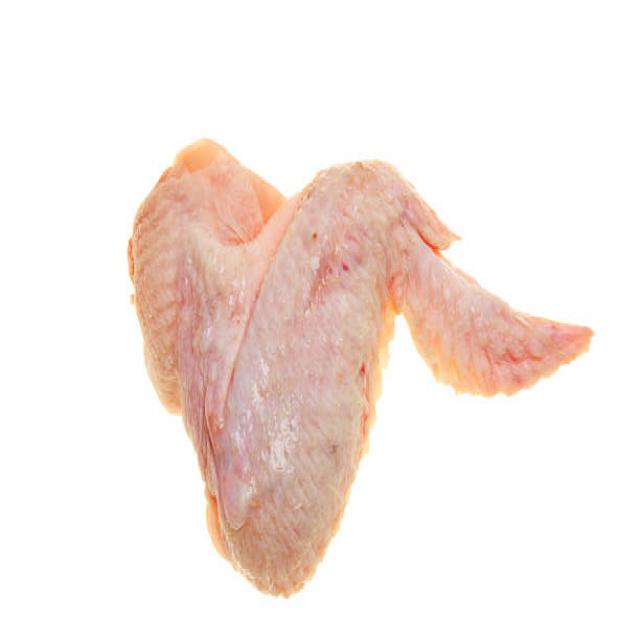chicken: (125, 125, 599, 612)
